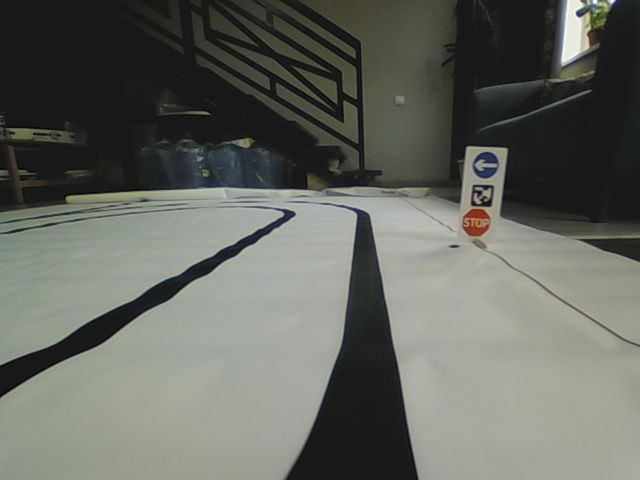Stop: (462, 208, 492, 238)
